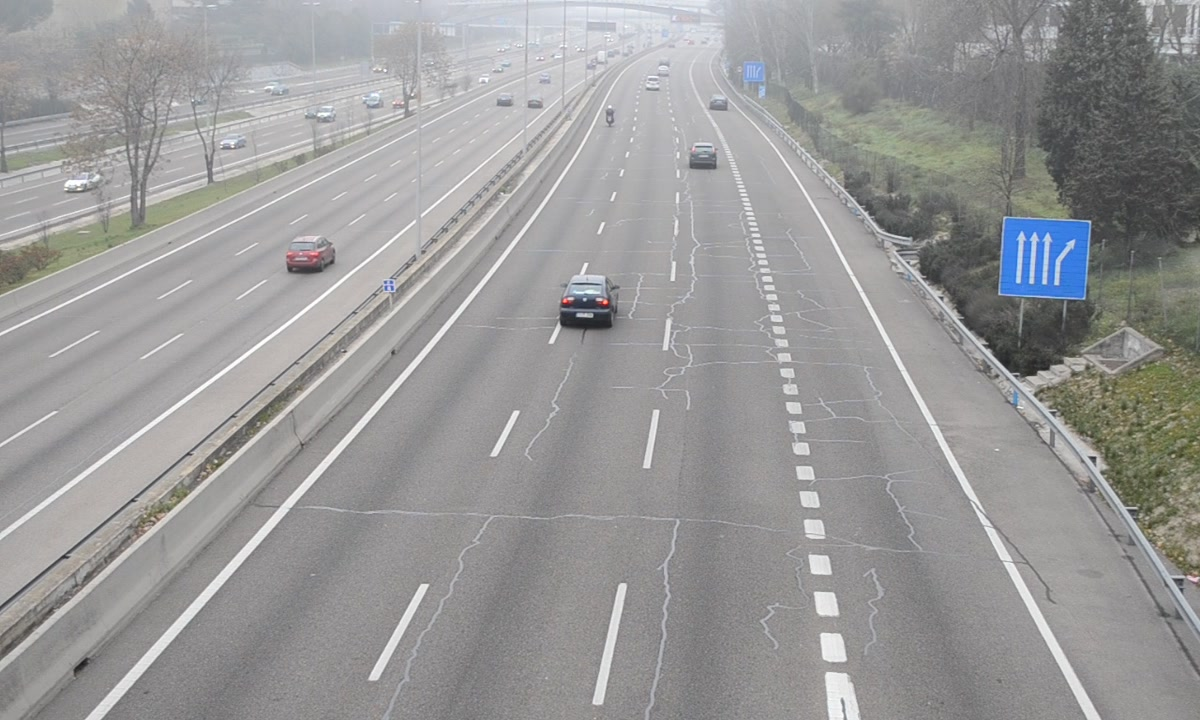car: (557, 275, 618, 331), (689, 142, 718, 171)
motorcycle: (605, 104, 615, 129)
